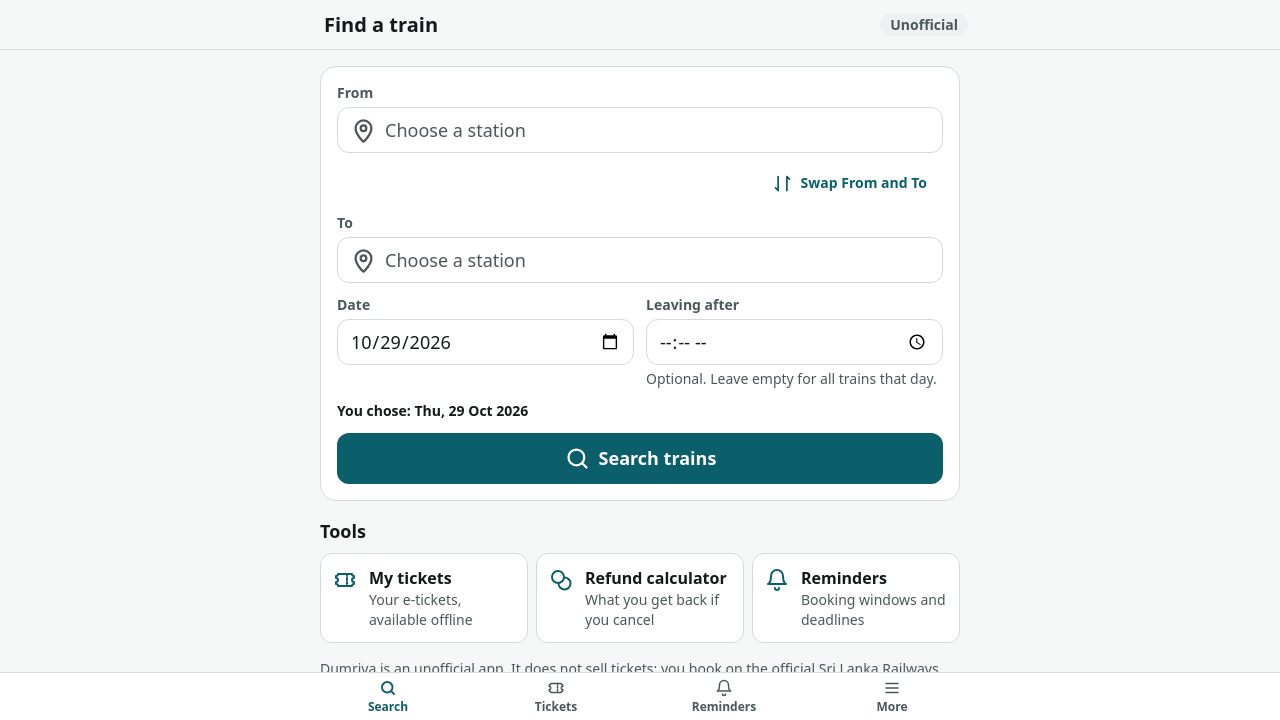
Test: Home: updates as the user picks a date and time
The image size is (1280, 720).
In the date field labelled "Date": (486, 342) [337, 319, 634, 365], type "2026-12-09"
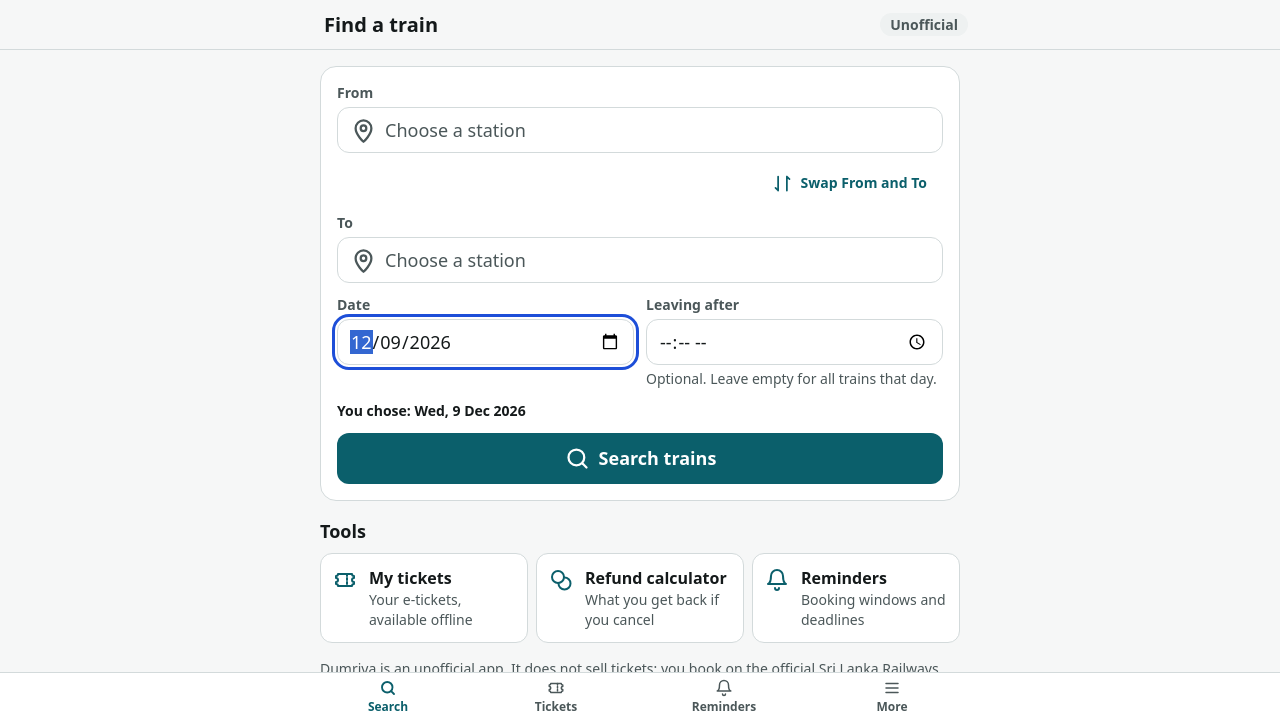
Expected: the text with test id "search-chosen" reads "You chose: Wed, 9 Dec 2026", [337, 401, 526, 420]
In the time field labelled "Leaving after": (794, 342) [646, 319, 943, 365], type "20:00"
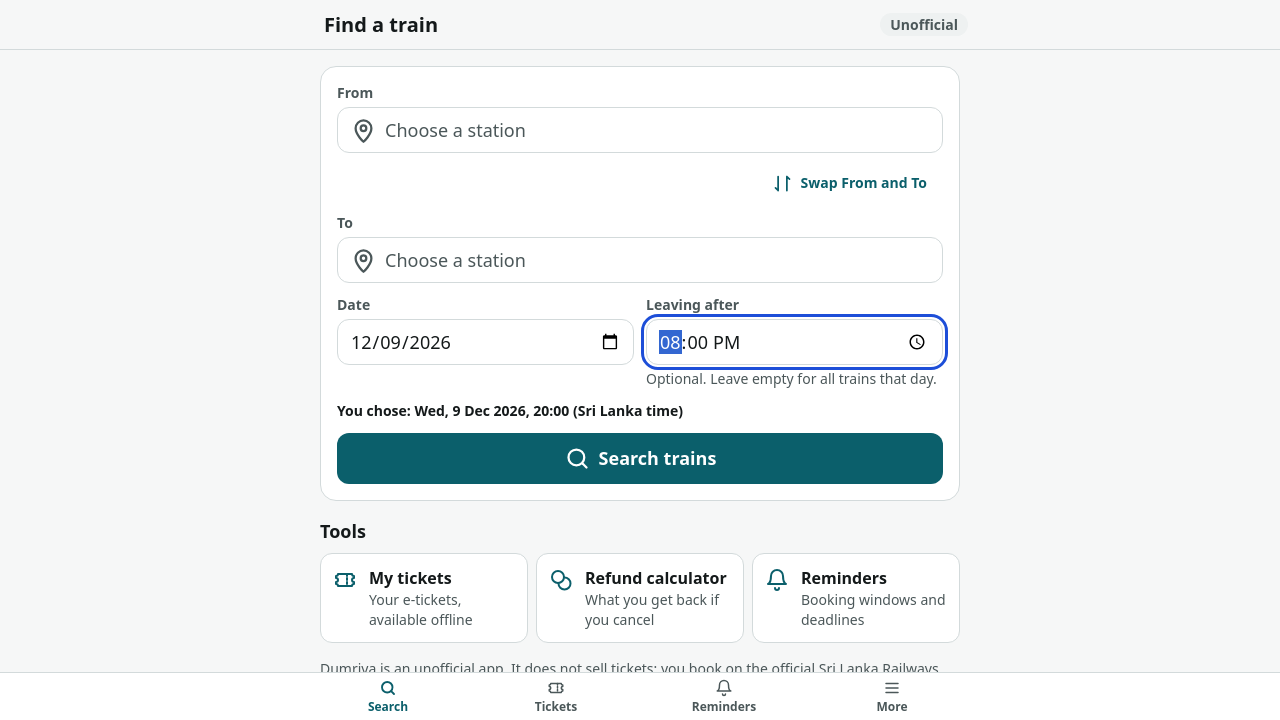
Expected: the text with test id "search-chosen" reads "You chose: Wed, 9 Dec 2026, 20:00 (Sri Lanka time)", [337, 401, 683, 420]
